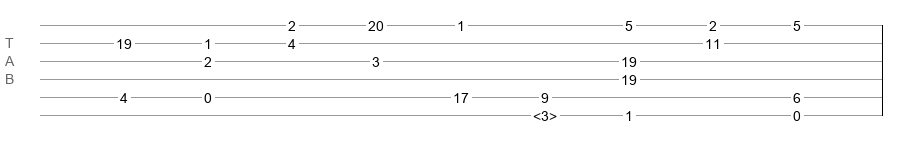0: (204, 90, 212, 100), (793, 108, 801, 118)
1: (204, 36, 212, 46), (457, 18, 465, 28), (625, 108, 633, 118)
11: (705, 36, 721, 46)
17: (453, 90, 469, 100)
19: (116, 36, 132, 46), (621, 72, 637, 82), (621, 54, 637, 64)
2: (204, 54, 212, 64), (288, 18, 296, 28), (709, 18, 717, 28)
20: (368, 18, 384, 28)
3: (372, 54, 380, 64)
4: (120, 90, 128, 100), (288, 36, 296, 46)
5: (625, 18, 633, 28), (793, 18, 801, 28)
6: (793, 90, 801, 100)
9: (541, 90, 549, 100)
harmonic: (533, 108, 557, 118)
